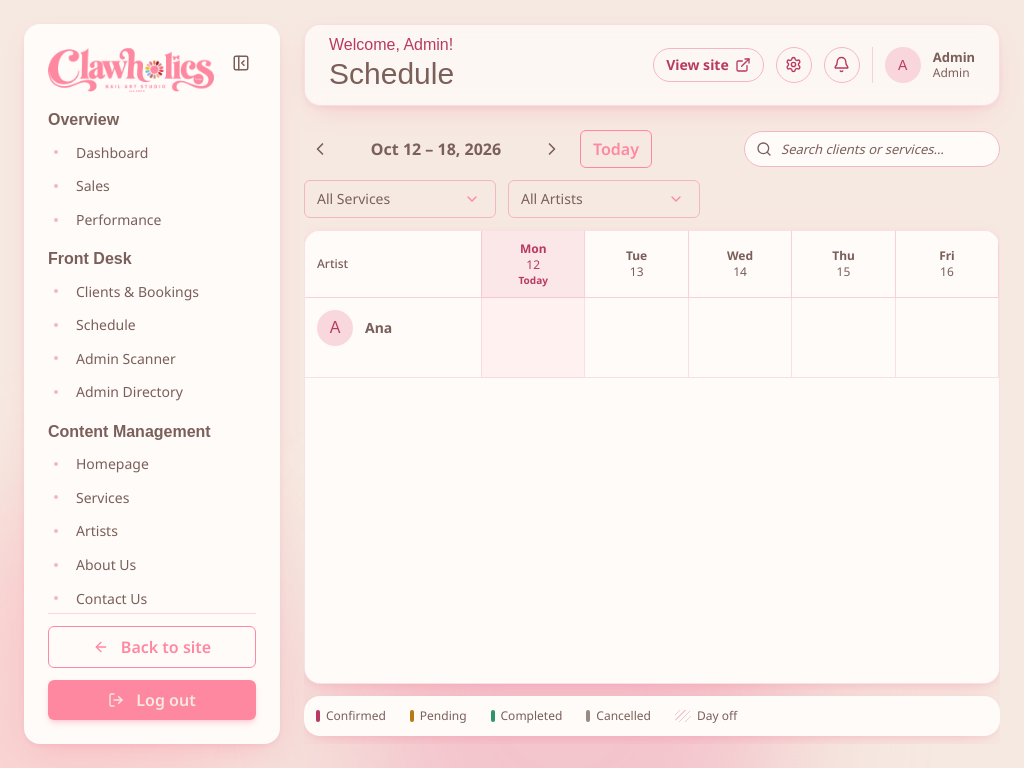
Scenario: Schedule on a phone › treats 64rem as the desktop width, the same as the lg breakpoint
Check: the table named "Week schedule" is shown, box [305,230,1000,378]
Check: the heading "Oct 12 – 18, 2026" is shown, box [371,138,501,160]
Click the button with aria-label "Open Thursday, October 15" at (844, 264), box [796,246,891,282]
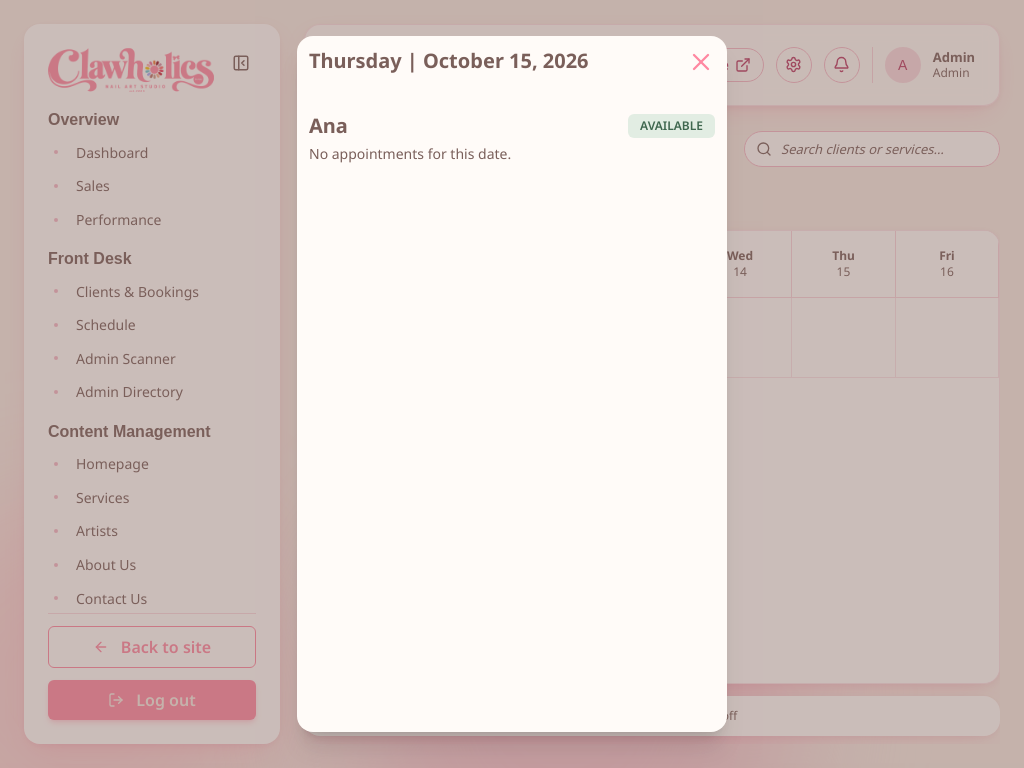
Check: the heading "Thursday | October 15, 2026" is shown, box [309,48,589,73]
